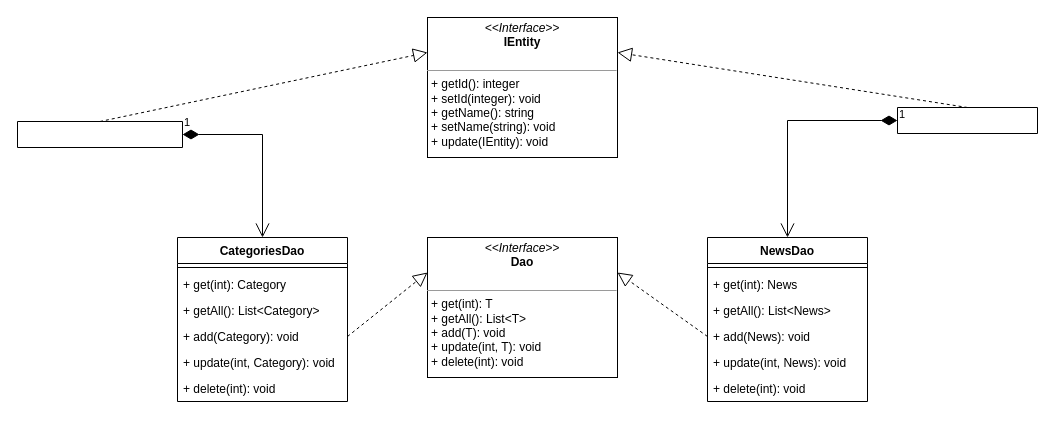
This 1055x422 diagram has some shape labels left out. Each missing label, with the centre of its shape:
Category: pixel 99 134
News: pixel 967 120
